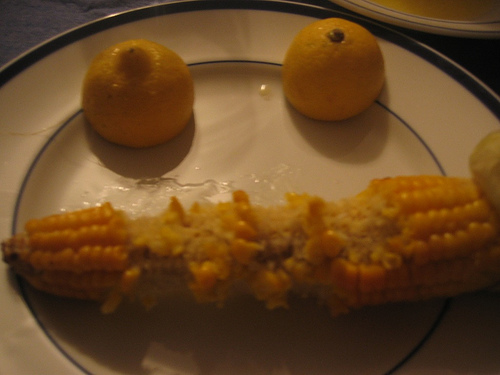corn: (20, 171, 499, 325)
